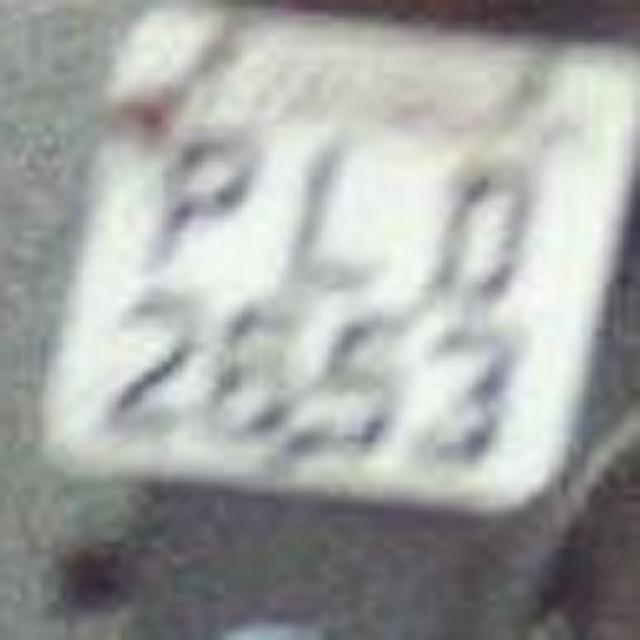2: (72, 272, 220, 452)
3: (380, 300, 545, 488), (164, 280, 328, 460)
5: (284, 296, 416, 469)
D: (412, 148, 548, 308)
J: (269, 124, 396, 304)
P: (128, 111, 260, 284)
